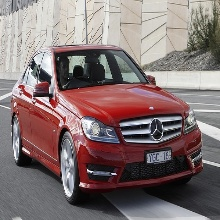no damage: (9, 44, 204, 203)
